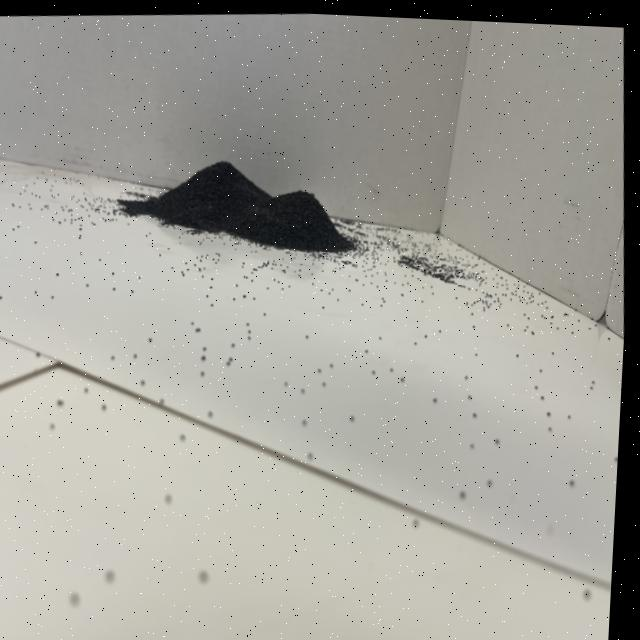Poppy Seeds: (130, 125, 370, 294)
